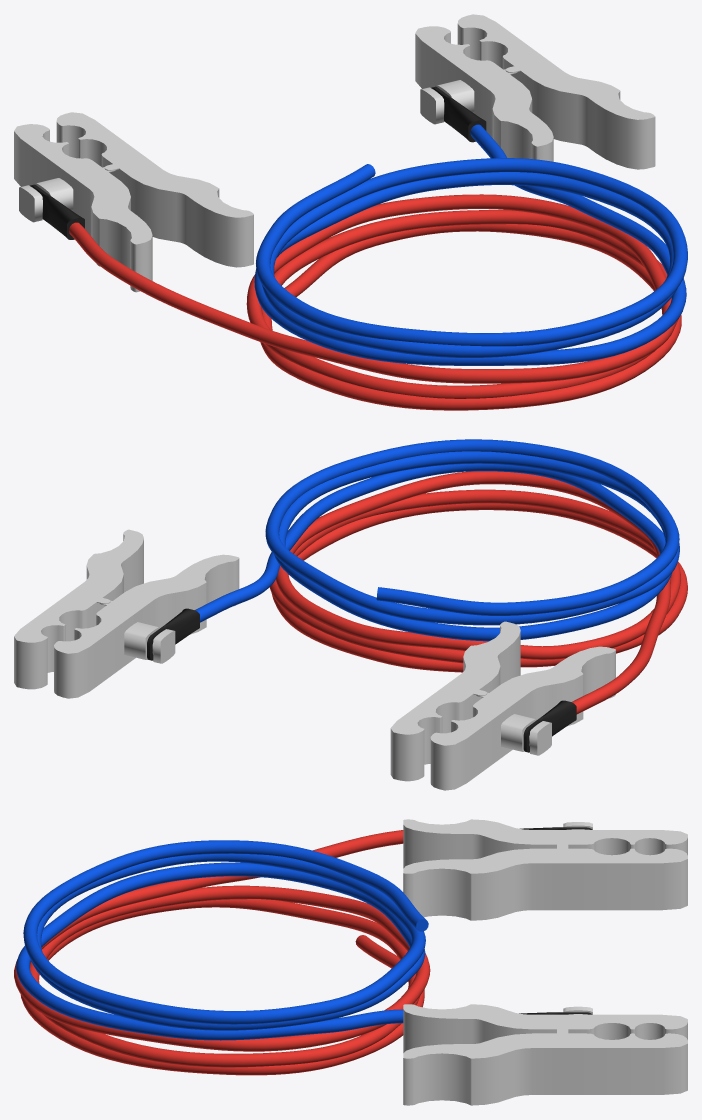
File: cableRoll.fbx
The picture shows the model from 3 angles, top to bottom: view 1: azimuth 30°, elevation 25°; view 2: azimuth 150°, elevation 25°; view 3: azimuth 270°, elevation 25°; orthographic projection. The views are drawn at different scales.
Parts seen in each view (by area): view 1: BezierCurve.001, BezierCurve, Cube, Cube.007, Cube.006, Cube.001, Cube.003, Cube.004, Cube.002, Cube.005; view 2: BezierCurve, BezierCurve.001, Cube.001, Cube.006, Cube.007, Cube, Cube.003, Cube.004, Cube.005, Cube.002; view 3: BezierCurve, BezierCurve.001, Cube, Cube.007, Cube.001, Cube.006.
Part boxes in pixels (x1,y1,x2,y2): BezierCurve.001: [69, 194, 681, 410]; BezierCurve: [254, 124, 687, 365]; Cube: [457, 14, 655, 169]; Cube.007: [56, 112, 253, 267]; Cube.006: [14, 124, 152, 292]; Cube.001: [415, 26, 553, 161]; Cube.003: [420, 80, 474, 124]; Cube.004: [19, 178, 73, 222]; Cube.002: [431, 86, 486, 142]; Cube.005: [30, 184, 84, 239]; BezierCurve: [195, 439, 679, 641]; BezierCurve.001: [269, 471, 687, 714]; Cube.001: [54, 554, 239, 698]; Cube.006: [430, 646, 615, 790]; Cube.007: [390, 621, 520, 781]; Cube: [14, 529, 143, 689]; Cube.003: [124, 622, 175, 663]; Cube.004: [501, 714, 551, 755]; Cube.005: [523, 700, 576, 752]; Cube.002: [147, 608, 199, 660]; BezierCurve: [16, 840, 428, 1040]; BezierCurve.001: [14, 830, 430, 1075]; Cube: [403, 1028, 687, 1105]; Cube.007: [403, 843, 687, 920]; Cube.001: [403, 1004, 687, 1052]; Cube.006: [403, 819, 687, 868].
Bounding box in the file's own units: 685 × 106 × 781.
